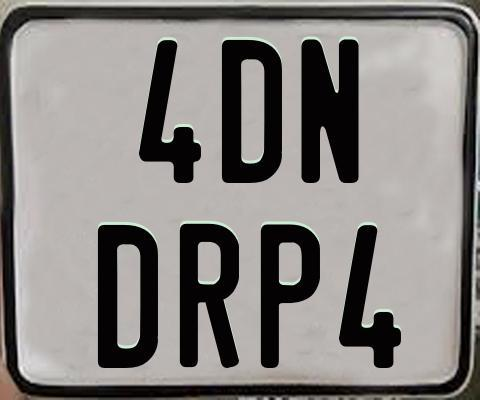4: (137, 40, 201, 187), (338, 223, 401, 372)
D: (220, 37, 280, 186), (98, 225, 159, 368)
N: (299, 39, 360, 185)
P: (261, 222, 321, 372)
R: (179, 221, 242, 368)
